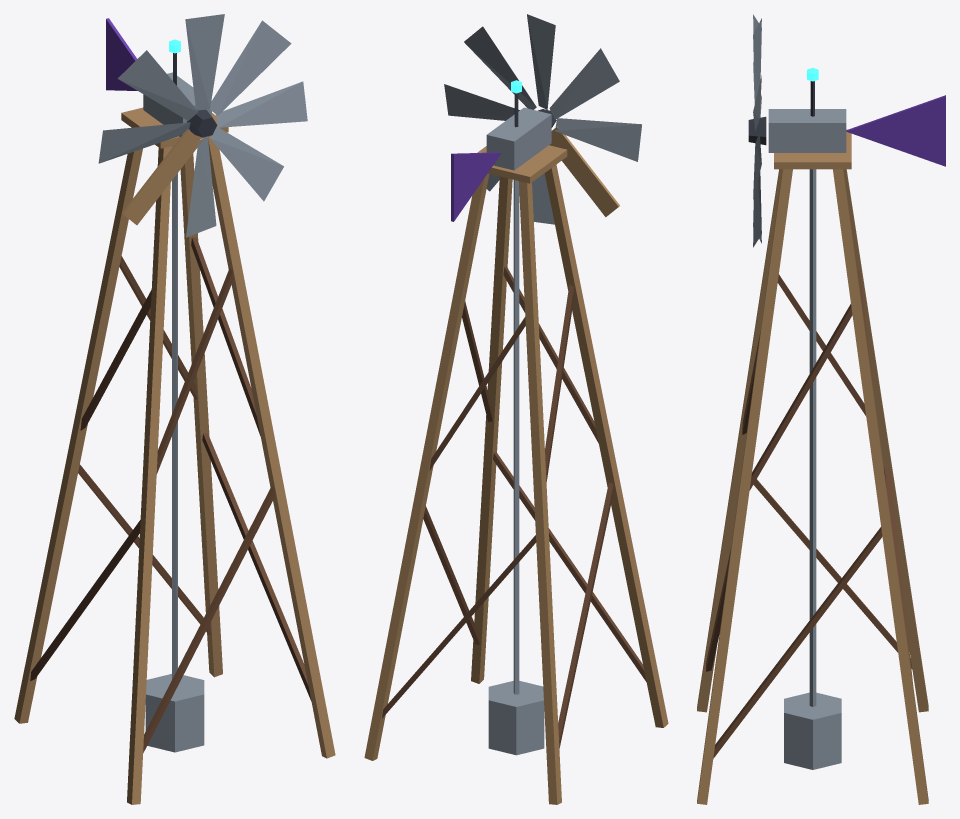
Rendered from Prop_WindPump.fbx.
3 views of the same model, side by side, from view 1: azimuth 30°, elevation 25°; view 2: azimuth 150°, elevation 25°; view 3: azimuth 270°, elevation 25° (orthographic). The views are drawn at different scales.
Visible parts, largest first — view 1: Prop_WindPump_Body, Prop_WindPump_Blades; view 2: Prop_WindPump_Body, Prop_WindPump_Blades; view 3: Prop_WindPump_Body, Prop_WindPump_Blades.
Boxes of the visible parts, bbox=[...] form: Prop_WindPump_Body: bbox=[14, 18, 335, 804]; Prop_WindPump_Blades: bbox=[98, 14, 307, 237]; Prop_WindPump_Body: bbox=[364, 80, 668, 804]; Prop_WindPump_Blades: bbox=[444, 14, 641, 224]; Prop_WindPump_Body: bbox=[697, 67, 945, 804]; Prop_WindPump_Blades: bbox=[748, 14, 766, 247].
Bounding box in the file's own units: 2.1 × 7.28 × 2.25.
